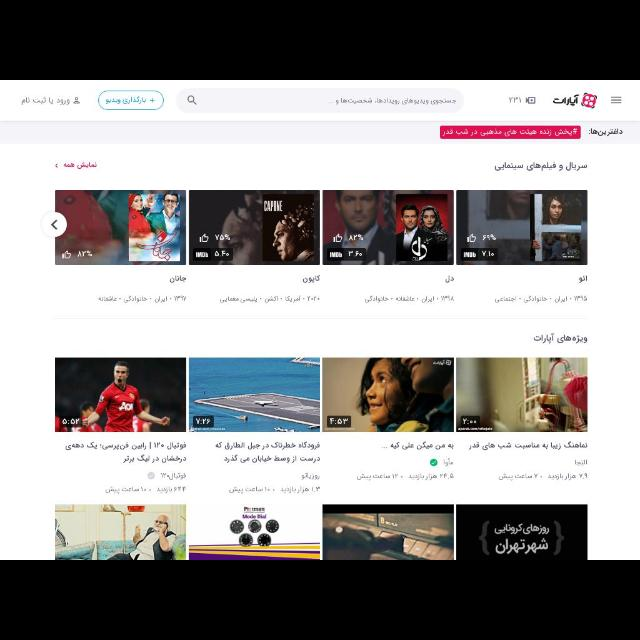icon: (188, 94, 198, 106), (526, 94, 536, 106), (612, 94, 622, 106), (428, 458, 440, 468), (51, 218, 58, 232), (73, 94, 81, 106), (150, 96, 156, 104), (54, 162, 60, 170)
image: (188, 190, 320, 266), (324, 358, 454, 434), (322, 191, 453, 265), (457, 358, 588, 432), (55, 190, 185, 264), (456, 190, 586, 264), (55, 358, 185, 432), (190, 358, 320, 432), (189, 502, 319, 560), (456, 503, 588, 559), (322, 503, 453, 559), (54, 504, 186, 558), (550, 89, 600, 113)
input: (177, 87, 465, 113)
spinner: (608, 91, 624, 109)
text: (62, 442, 188, 466), (214, 441, 322, 464), (325, 96, 459, 108), (493, 158, 587, 172), (469, 441, 587, 452), (354, 470, 456, 482), (226, 484, 322, 496), (362, 292, 456, 304), (498, 470, 590, 482), (442, 128, 578, 136), (218, 294, 322, 304), (492, 294, 588, 304), (531, 332, 591, 348), (103, 484, 189, 494), (379, 442, 455, 452), (98, 294, 186, 302), (20, 94, 72, 106), (103, 95, 147, 105), (589, 126, 625, 138), (64, 160, 98, 170), (160, 471, 188, 481), (302, 272, 322, 284), (168, 274, 188, 284), (573, 456, 591, 466), (300, 472, 322, 480), (509, 94, 523, 106), (576, 272, 590, 284), (442, 456, 456, 466), (445, 274, 455, 284)
textbutton: (440, 125, 580, 138), (96, 90, 166, 108)
